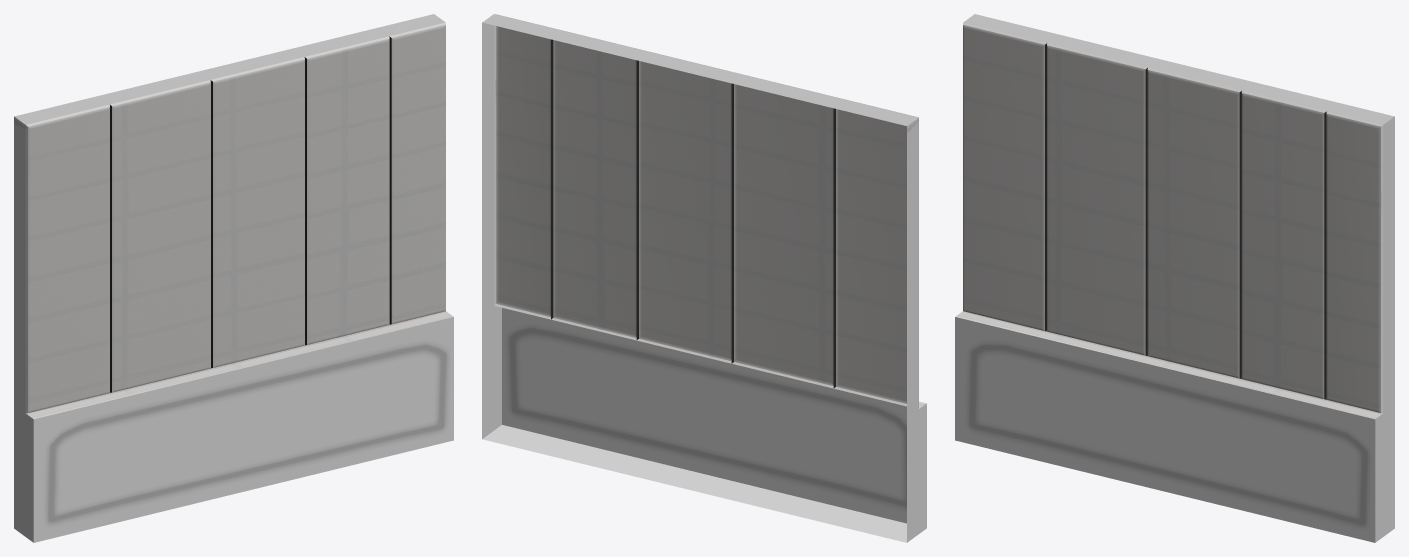
Rendered from Wall3.fbx.
The picture shows the model from 3 angles, left to right: view 1: azimuth 30°, elevation 25°; view 2: azimuth 150°, elevation 25°; view 3: azimuth 330°, elevation 25°; orthographic projection.
Visible parts, largest first — view 1: polySurface8; view 2: polySurface8; view 3: polySurface8.
Boxes of the visible parts, bbox=[...] form: polySurface8: bbox=[14, 14, 453, 542]; polySurface8: bbox=[482, 14, 926, 542]; polySurface8: bbox=[955, 14, 1394, 542].
Size of the model in its own units: 8 by 7.5 by 0.6493.
Materials: 1 (1 with a texture image).
